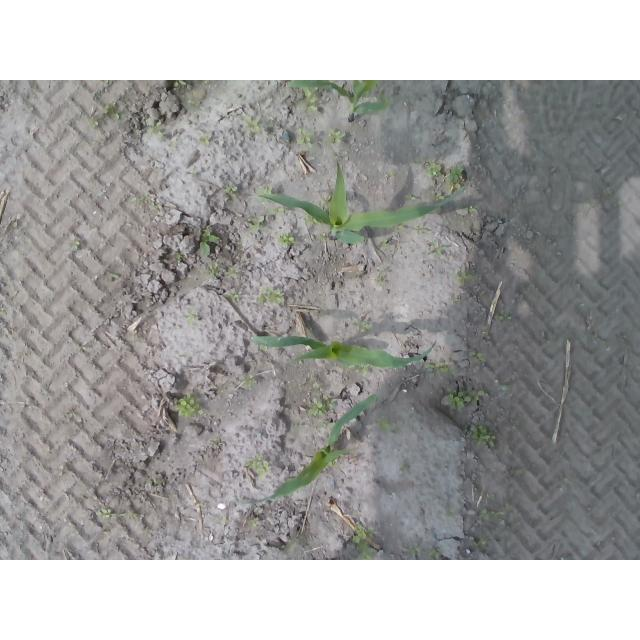Maize: (260, 161, 453, 246), (270, 394, 375, 501), (249, 334, 439, 371), (282, 81, 392, 124)
Weeds: (351, 520, 376, 561), (445, 389, 488, 411), (310, 382, 338, 415), (198, 224, 221, 258), (175, 392, 206, 417), (480, 503, 513, 524), (469, 424, 496, 449), (128, 190, 161, 210), (246, 455, 271, 481), (208, 262, 241, 279), (255, 287, 285, 305), (446, 165, 464, 191), (374, 415, 399, 433), (172, 80, 209, 92), (244, 115, 273, 130), (304, 88, 321, 113), (426, 364, 458, 377), (103, 104, 125, 121), (296, 125, 312, 145), (469, 350, 487, 367), (423, 160, 442, 176), (146, 119, 162, 137), (247, 215, 266, 230), (63, 233, 79, 249), (327, 129, 344, 144), (352, 320, 371, 333), (224, 287, 240, 301), (350, 365, 369, 376), (95, 507, 111, 520), (278, 232, 294, 244), (375, 271, 385, 290), (494, 311, 513, 321), (496, 383, 512, 394), (455, 273, 474, 282), (433, 241, 444, 256), (478, 538, 491, 550), (409, 543, 420, 557), (187, 95, 202, 105), (255, 186, 271, 195), (429, 548, 440, 561), (243, 375, 257, 385), (225, 186, 240, 195), (268, 206, 284, 214), (317, 420, 332, 428), (431, 194, 445, 202), (89, 120, 99, 129), (382, 239, 391, 249), (400, 464, 409, 473), (408, 192, 417, 201), (186, 312, 194, 322), (386, 170, 399, 176), (248, 520, 257, 528), (464, 207, 476, 213), (309, 216, 317, 225), (200, 137, 208, 144), (175, 252, 182, 260), (319, 234, 326, 240)
